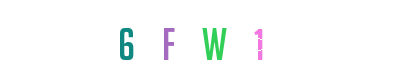1: (173, 0, 253, 80)
6: (86, 0, 166, 80)
F: (163, 0, 243, 80)
W: (165, 0, 245, 80)
